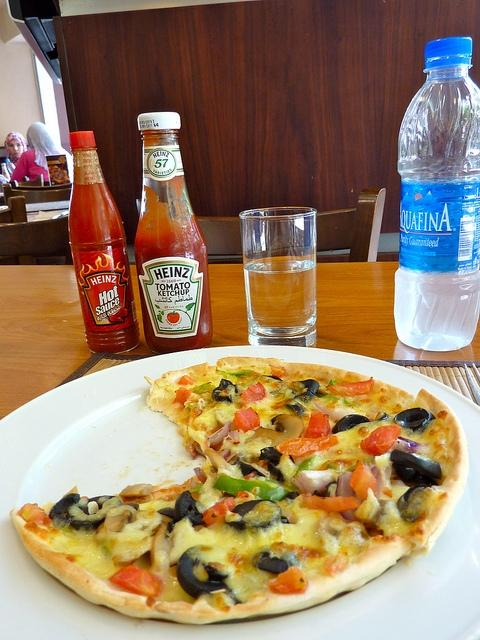bell pepper: (213, 475, 291, 502), (290, 454, 318, 490), (277, 456, 299, 480), (320, 394, 354, 405), (191, 383, 216, 395), (102, 546, 112, 558), (328, 380, 337, 386)
